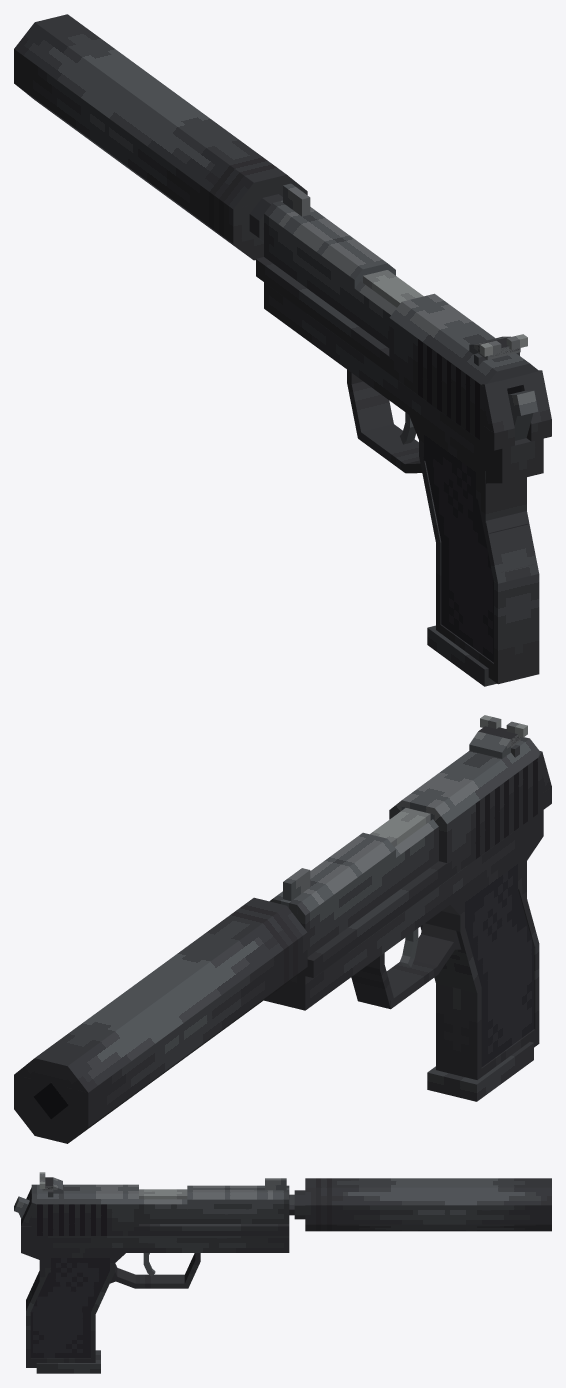
Rendered from cs2_usp.glb.
3 renders of one model, top to bottom at view 1: azimuth 30°, elevation 25°; view 2: azimuth 150°, elevation 25°; view 3: azimuth 270°, elevation 25°, orthographic. The views are drawn at different scales.
Parts seen in each view (by area): view 1: cube_26, cube_10, cube_0, cube_28, cube_8, cube_73, cube_72, cube_34, cube_33, cube_1, cube_2, cube_7 (+13 smaller); view 2: cube_26, cube_10, cube_28, cube_0, cube_8, cube_73, cube_71, cube_34, cube_33, cube_1, cube_7, cube_36 (+19 smaller); view 3: cube_10, cube_27, cube_0, cube_8, cube_73, cube_34, cube_28, cube_26, cube_33, cube_1, cube_60, cube_55 (+19 smaller).
Part boxes in pixels (left/top/right/bottom): cube_26: left=14, top=22, right=253, bottom=209; cube_10: left=14, top=49, right=307, bottom=243; cube_0: left=264, top=282, right=543, bottom=482; cube_28: left=35, top=14, right=286, bottom=204; cube_8: left=389, top=318, right=521, bottom=443; cube_73: left=441, top=543, right=493, bottom=662; cube_72: left=494, top=574, right=539, bottom=675; cube_34: left=264, top=214, right=395, bottom=322; cube_33: left=256, top=257, right=389, bottom=373; cube_1: left=419, top=422, right=526, bottom=505; cube_2: left=478, top=500, right=538, bottom=583; cube_7: left=402, top=293, right=529, bottom=381; cube_26: left=14, top=906, right=307, bottom=1135; cube_10: left=14, top=932, right=307, bottom=1127; cube_28: left=34, top=897, right=286, bottom=1087; cube_0: left=264, top=810, right=543, bottom=1010; cube_8: left=389, top=755, right=542, bottom=880; cube_73: left=481, top=948, right=533, bottom=1066; cube_71: left=436, top=983, right=481, bottom=1079; cube_34: left=292, top=849, right=395, bottom=956; cube_33: left=298, top=861, right=446, bottom=977; cube_1: left=425, top=849, right=526, bottom=931; cube_7: left=401, top=737, right=529, bottom=820; cube_36: left=434, top=739, right=539, bottom=823; cube_10: left=305, top=1205, right=551, bottom=1224; cube_27: left=305, top=1187, right=551, bottom=1205; cube_0: left=21, top=1236, right=289, bottom=1252; cube_8: left=31, top=1204, right=138, bottom=1235; cube_73: left=30, top=1312, right=90, bottom=1357; cube_34: left=187, top=1197, right=289, bottom=1223; cube_28: left=305, top=1178, right=551, bottom=1187; cube_26: left=305, top=1224, right=551, bottom=1231; cube_33: left=139, top=1224, right=289, bottom=1235; cube_1: left=39, top=1253, right=114, bottom=1272; cube_60: left=32, top=1193, right=138, bottom=1204; cube_55: left=139, top=1204, right=187, bottom=1223.
Size of the model in its own units: 0.1406 by 0.6072 by 1.57.
Materials: 1 (1 with a texture image).
